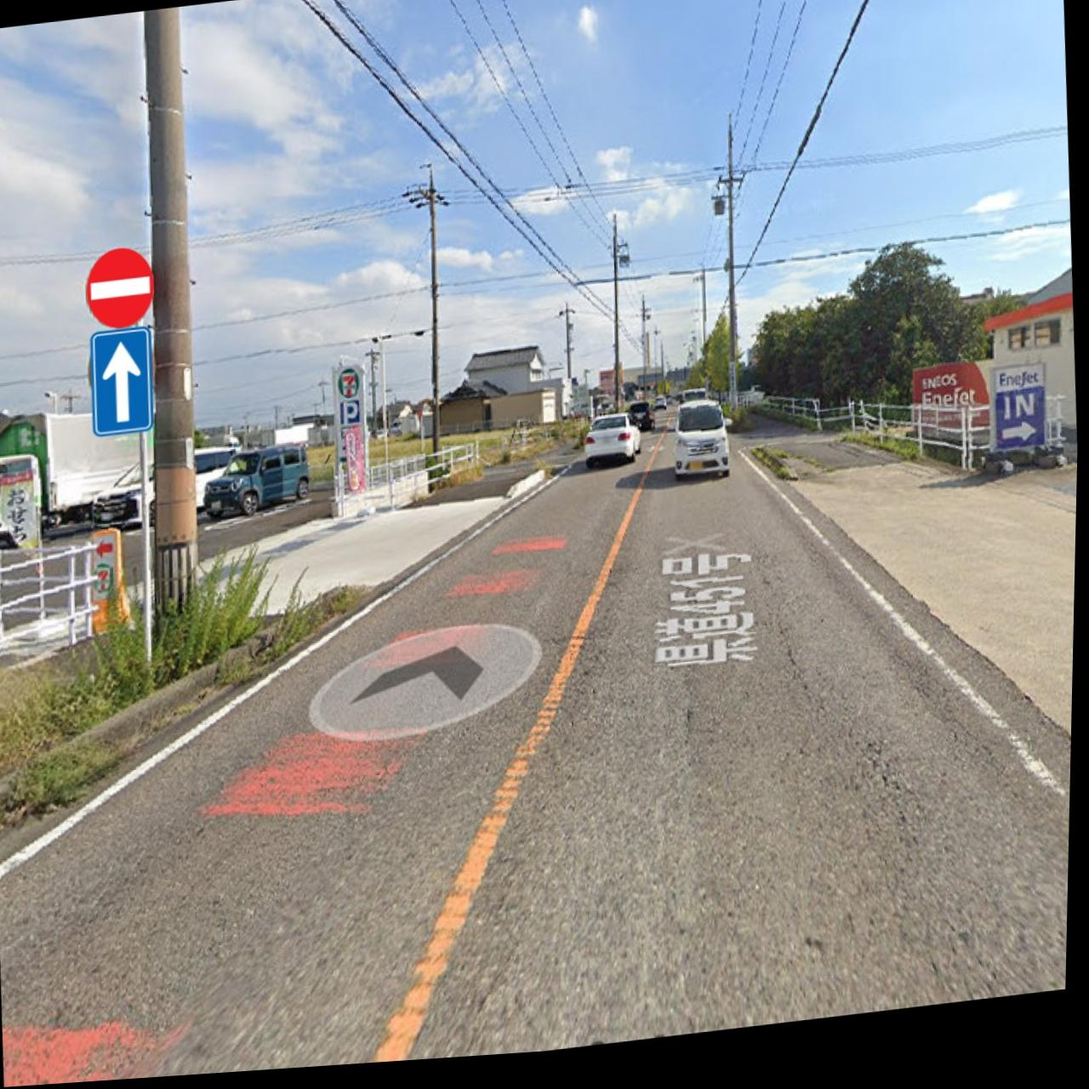barrier: (83, 241, 160, 330)
